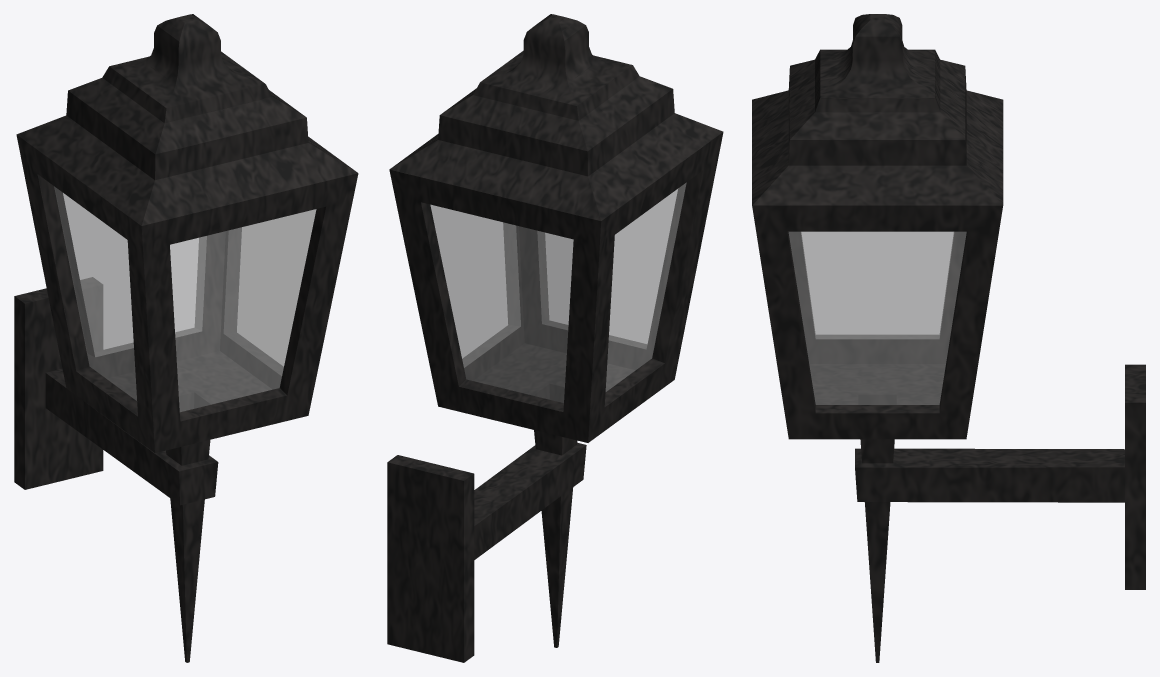
The model's file is model_iluminacaoparede_01.fbx.
The picture shows the model from 3 angles, left to right: view 1: azimuth 30°, elevation 25°; view 2: azimuth 150°, elevation 25°; view 3: azimuth 270°, elevation 25°; orthographic projection. The views are drawn at different scales.
Parts seen in each view (by area): view 1: parede; view 2: parede; view 3: parede.
Part boxes in pixels (left/top/right/bottom): parede: left=14, top=14, right=358, bottom=662; parede: left=387, top=14, right=723, bottom=662; parede: left=752, top=14, right=1145, bottom=662.
Size of the model in its own units: 0.6497 by 1.84 by 1.02.
2 materials, 1 textured.
